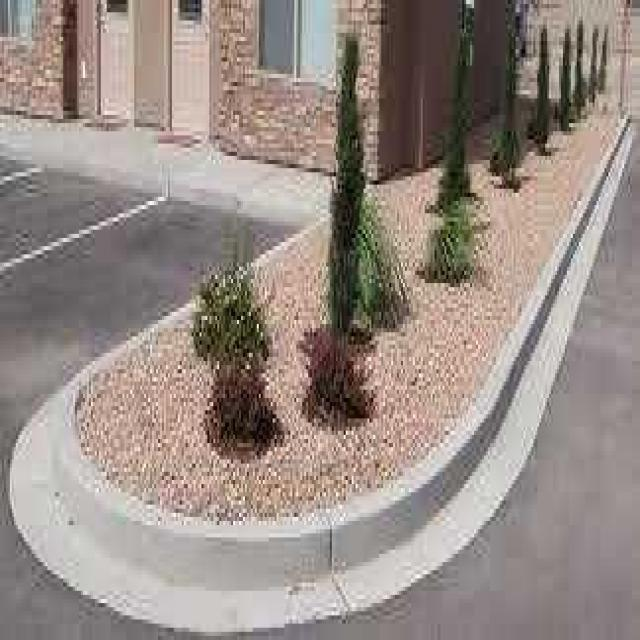bump: (45, 433, 399, 619), (373, 368, 498, 538)
